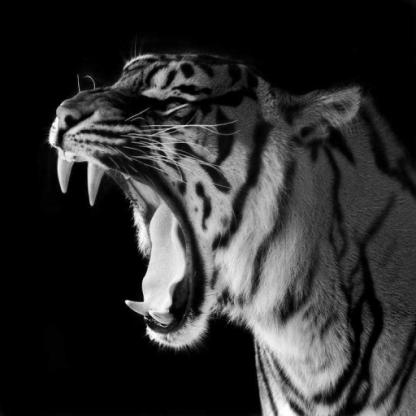Tiger: (42, 40, 415, 415)
